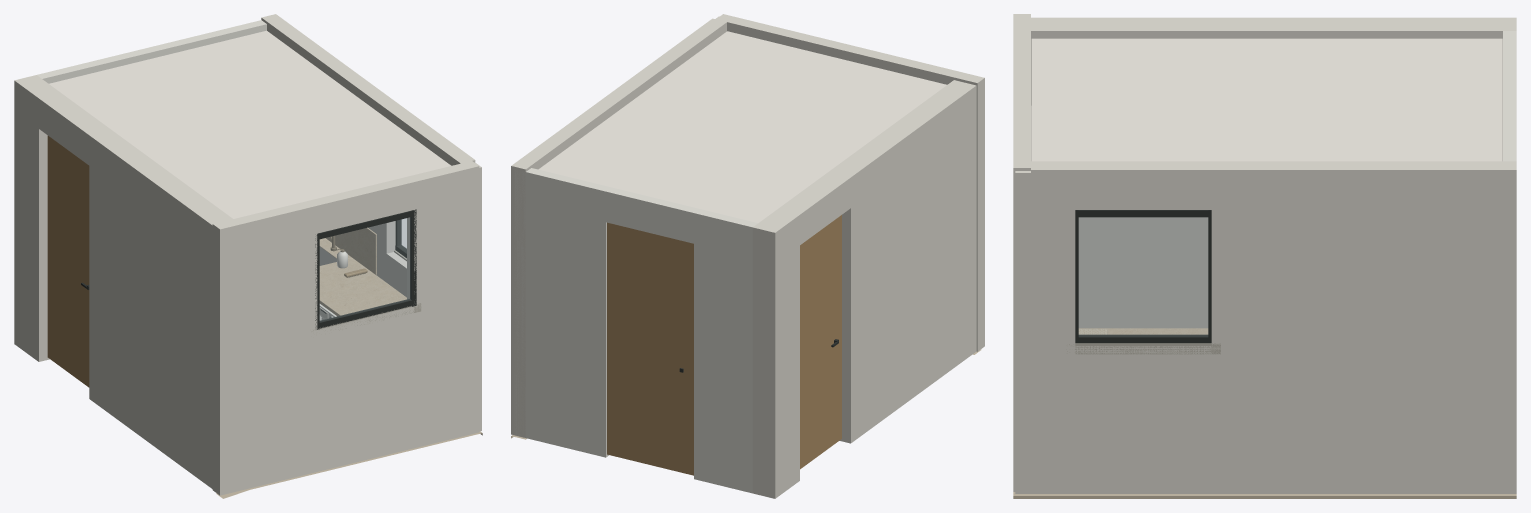
3 views of the same model, side by side, from view 1: azimuth 30°, elevation 25°; view 2: azimuth 150°, elevation 25°; view 3: azimuth 270°, elevation 25° (orthographic). The views are drawn at different scales.
Parts seen in each view (by area): view 1: Utility 01 | ivory ceiling finish.001, Proposal | Garage east separation pier 0.001, Proposal | New wing south pier 1.001, Proposal | New wing south end pier.001, Proposal | New wing south sill 1.001, Proposal | Garage east separation door 0 leaf.001, Proposal | Garage east separation end pier.001, Proposal | New wing south window 1 glass.001, Proposal | New wing south head 1.001, Proposal | Storey edge closure | east main wing.001, Utility 01 | limestone worktop south folding section.002, Proposal | Garage east separation head 0.001 (+11 smaller); view 2: Utility 01 | ivory ceiling finish.001, Proposal | Garage east separation pier 0.001, Proposal | Boot utility partition end pier.001, Proposal | Boot utility inward door leaf.001, Proposal | Boot utility partition pier 0.001, Proposal | Garage east separation end pier.001, Proposal | Garage east separation door 0 leaf.001, Proposal | New wing east pier 1.001, Proposal | New wing south pier 1.001, Proposal | Storey edge closure | east main wing.001, Proposal | Boot utility partition head 0.001, Proposal | Garage east separation head 0.001 (+2 smaller); view 3: Proposal | New wing east pier 1.001, Utility 01 | ivory ceiling finish.001, Proposal | Garage east separation pier 0.001, Proposal | New wing east sill 0.001, Proposal | New wing east pier 0.001, Proposal | New wing east window 0 glass.001, Proposal | Storey edge closure | east main wing.001, Proposal | New wing east head 0.001, Proposal | Garage east separation head 0.001, Proposal revision | Circular driveway - tarmac.001, Proposal | New wing south end pier.001, Proposal | New wing east window cill 0.001 (+8 smaller).
Part boxes in pixels (x1,y1,x2,y2): Utility 01 | ivory ceiling finish.001: (49,30,451,218); Proposal | Garage east separation pier 0.001: (89,130,232,488); Proposal | New wing south pier 1.001: (212,200,317,495); Proposal | New wing south end pier.001: (407,161,479,448); Proposal | New wing south sill 1.001: (317,306,414,471); Proposal | Garage east separation door 0 leaf.001: (47,135,89,387); Proposal | Garage east separation end pier.001: (14,75,60,361); Proposal | New wing south window 1 glass.001: (320,217,410,321); Proposal | New wing south head 1.001: (310,177,414,233); Proposal | Storey edge closure | east main wing.001: (261,14,475,163); Utility 01 | limestone worktop south folding section.002: (319,258,406,316); Proposal | Garage east separation head 0.001: (39,93,111,165); Utility 01 | ivory ceiling finish.001: (538,31,946,223); Proposal | Garage east separation pier 0.001: (829,80,976,443); Proposal | Boot utility partition end pier.001: (514,168,611,457); Proposal | Boot utility inward door leaf.001: (607,222,693,475); Proposal | Boot utility partition pier 0.001: (694,209,757,493); Proposal | Garage east separation end pier.001: (752,209,799,498); Proposal | Garage east separation door 0 leaf.001: (800,215,841,469); Proposal | New wing east pier 1.001: (511,80,652,437); Proposal | New wing south pier 1.001: (879,54,984,351); Proposal | Storey edge closure | east main wing.001: (511,18,726,171); Proposal | Boot utility partition head 0.001: (606,187,698,243); Proposal | Garage east separation head 0.001: (778,172,850,244); Proposal | New wing east pier 1.001: (1211,173,1516,493); Utility 01 | ivory ceiling finish.001: (1031,38,1502,161); Proposal | Garage east separation pier 0.001: (1031,17,1334,328); Proposal | New wing east sill 0.001: (1075,346,1211,493); Proposal | New wing east pier 0.001: (1015,171,1075,493); Proposal | New wing east window 0 glass.001: (1079,217,1207,335); Proposal | Storey edge closure | east main wing.001: (1031,161,1516,172); Proposal | New wing east head 0.001: (1075,173,1211,209); Proposal | Garage east separation head 0.001: (1334,17,1456,38); Proposal revision | Circular driveway - tarmac.001: (1013,492,1516,498); Proposal | New wing south end pier.001: (1013,129,1030,491); Proposal | New wing east window cill 0.001: (1066,343,1220,354).
Bounding box in the file's own units: 2.71 × 2.66 × 3.7.
20 materials, 3 textured.
